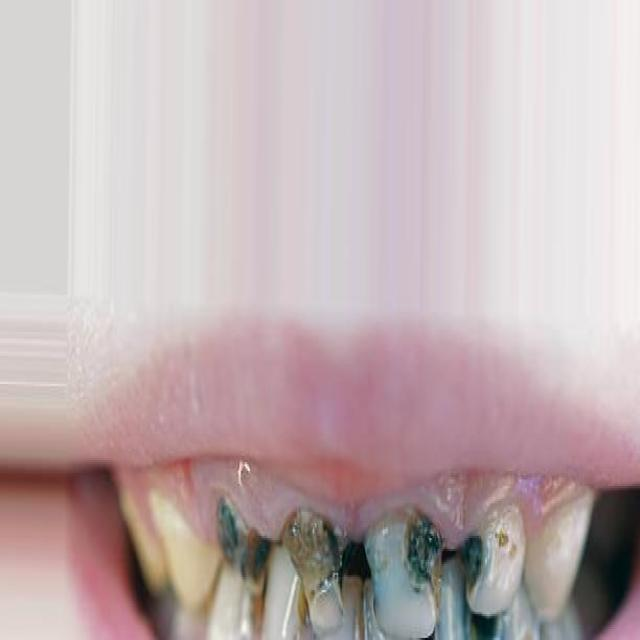caries: (364, 496, 447, 636), (279, 496, 354, 631), (459, 492, 531, 626), (211, 482, 272, 606)
